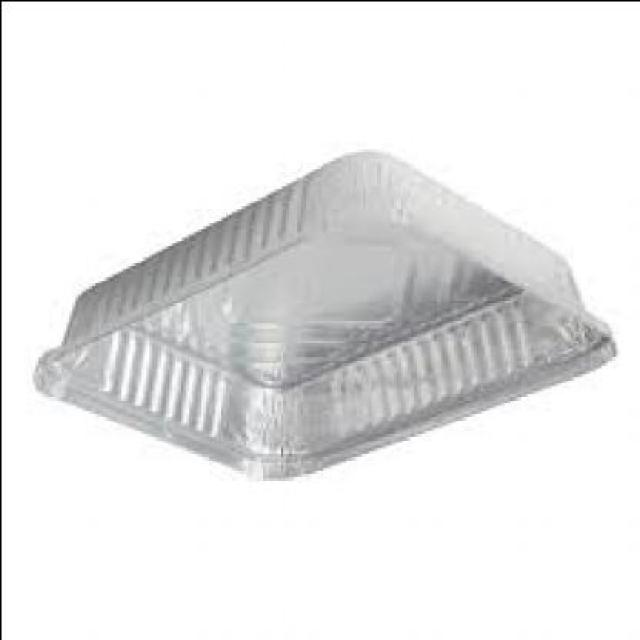METAL: (34, 153, 617, 484)
